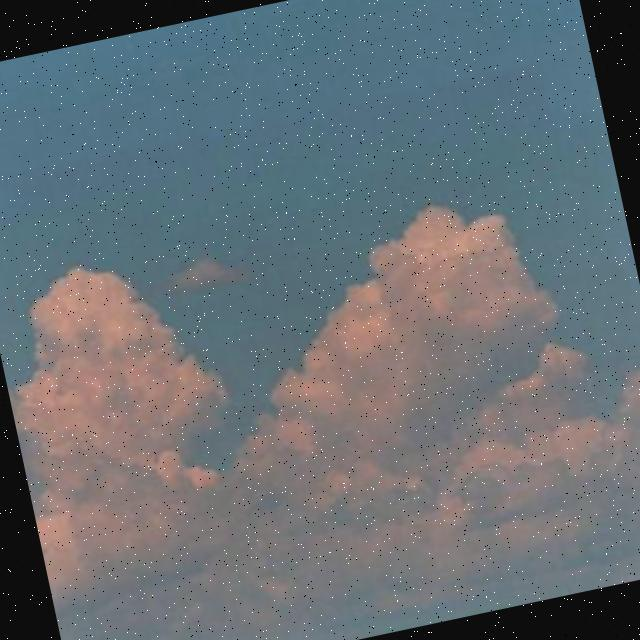Cs: (1, 52, 640, 640)
